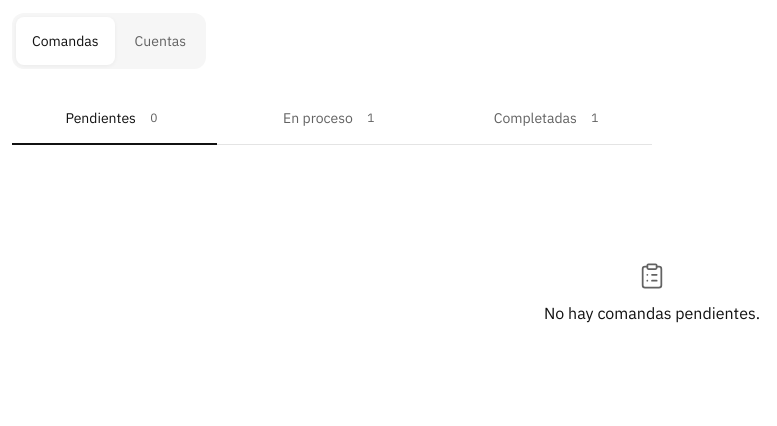
Test: legacy ready work is in progress, while cancelled work never has a preparation action
Expected: the heading "No hay comandas pendientes." is shown, [544,302,760,324]
Click the button "En proceso 1": (332, 119) [229,93,435,145]
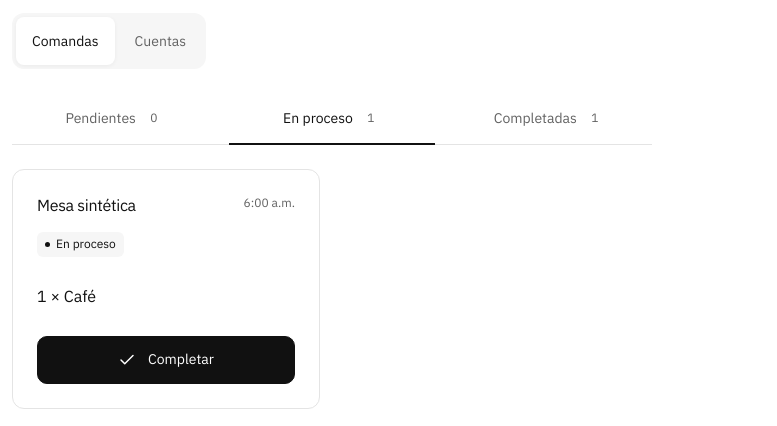
Expected: the button "Completar" is shown, [37,336,295,384]
Click the button "Completadas 1": (549, 119) [447,93,652,145]
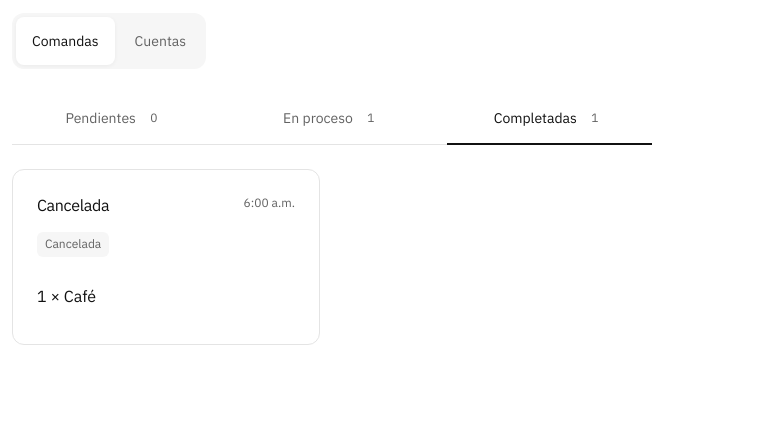
Expected: the button "Completar" is gone
